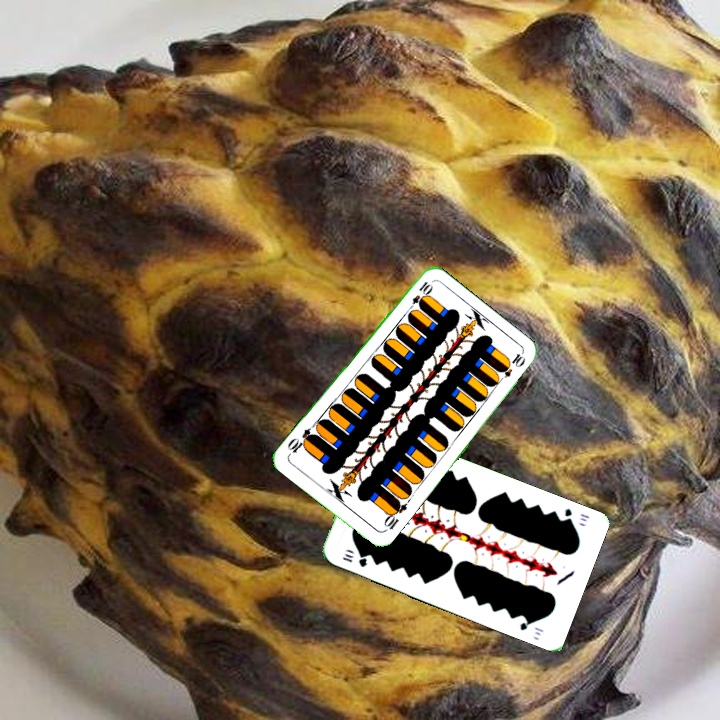E10: (379, 496, 410, 534), (404, 277, 435, 314)
G10: (338, 549, 370, 570), (560, 504, 592, 525)
